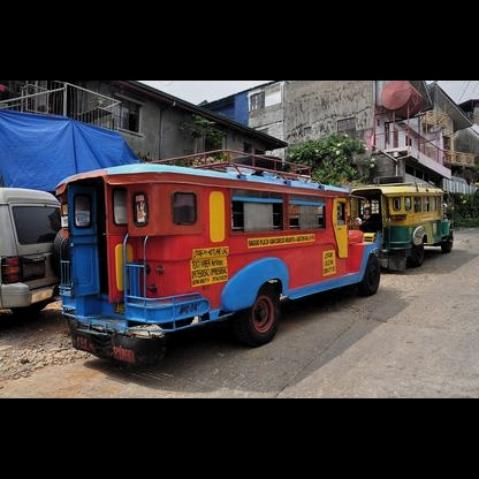jeepney: (58, 146, 379, 363), (366, 179, 458, 263)
